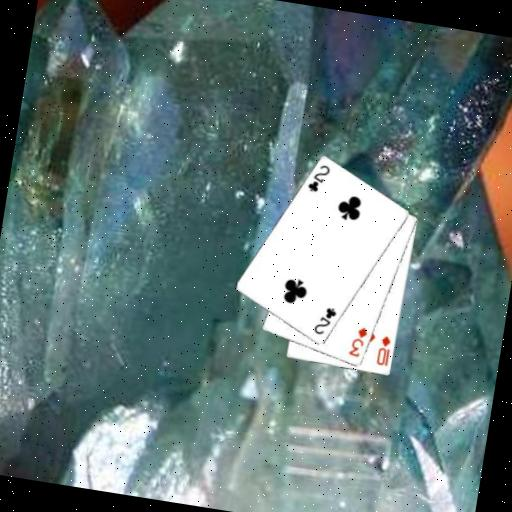10D: (373, 332, 394, 368)
2C: (310, 302, 338, 338), (304, 159, 332, 195)
3D: (345, 322, 370, 360)
